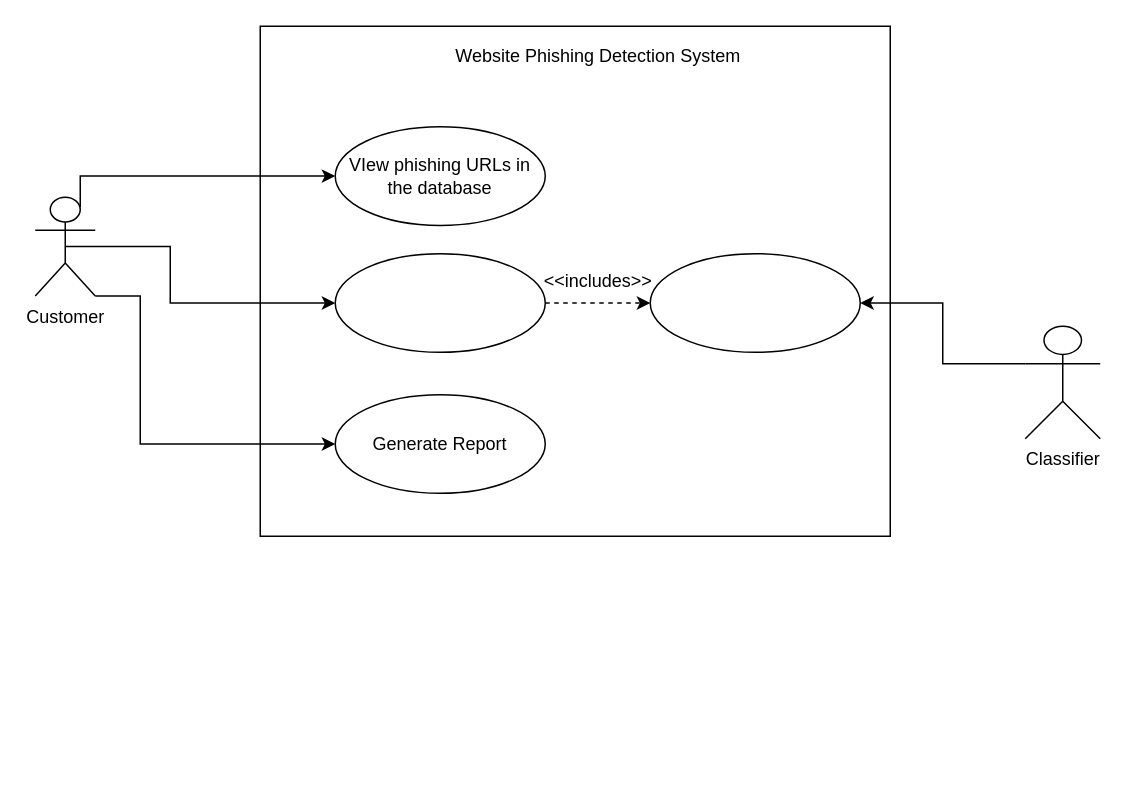
The diagram is 1127 pixels wide and 788 high, and some of its shapes have lost their labels. The shapes that lost their labels are listed below. From the top down, each one's centre as x and y in pixels, then its label:
At (x=439, y=302): "Input URL".
At (x=754, y=302): "Classify the URL as phishing or legitamate".
